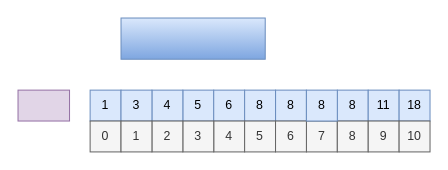
This 448x170 diagram has some shape labels left out. Here are the shapes that lost their labels. From the top down, the centre of each, then its label:
At point 192,38: "最一个值等于给定值".
At point 43,105: "arr[11]".
